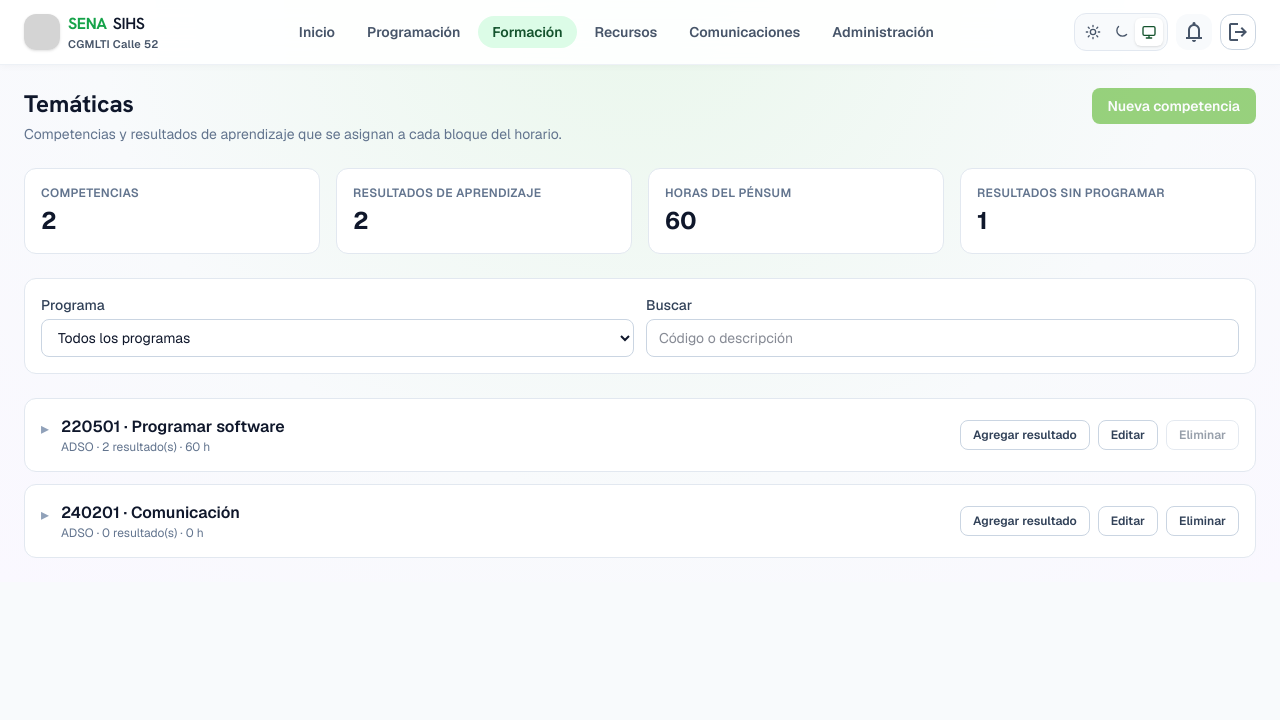
Test: Tematicas › muestra el motivo si el backend rechaza el borrado
Check: the text "240201 · Comunicación" is shown, box top-left (61, 501), bottom-right (240, 525)
Click the button with aria-label "Eliminar competencia Comunicación" at (1202,521), box top-left (1166, 506), bottom-right (1239, 536)
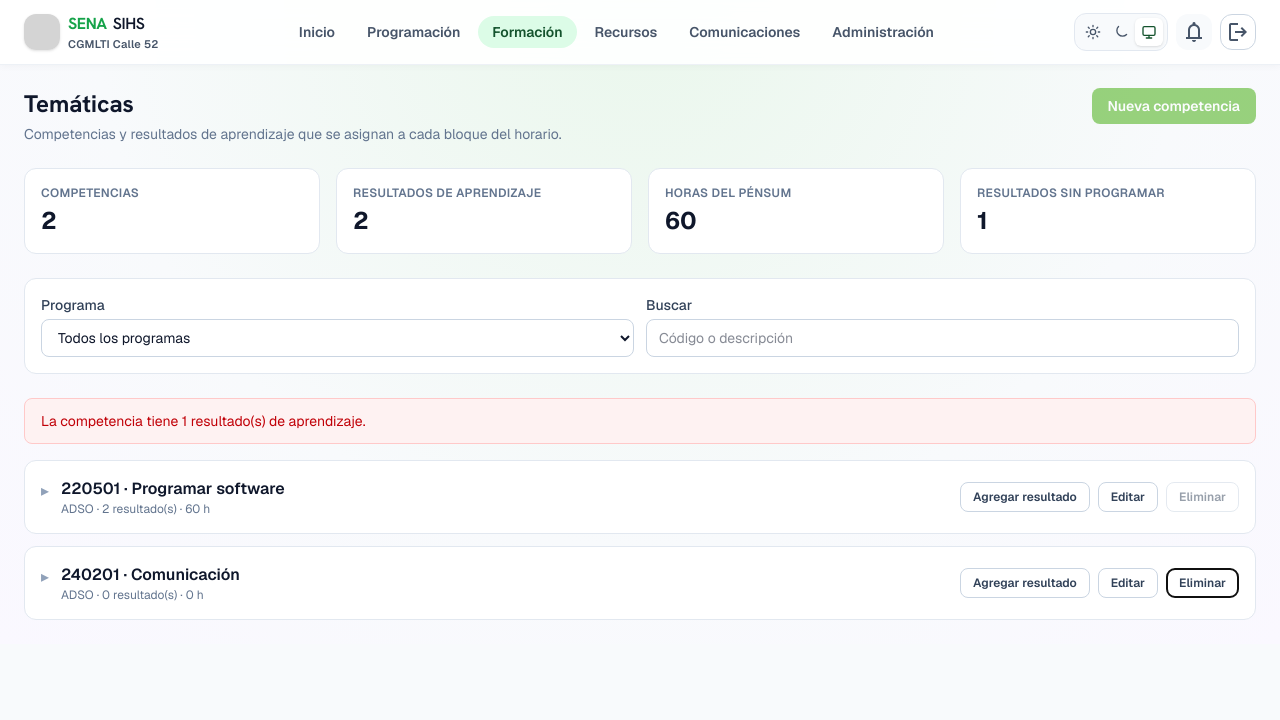
Check: the message reads "La competencia tiene 1 resultado(s) de aprendizaje.", box top-left (41, 412), bottom-right (366, 430)
